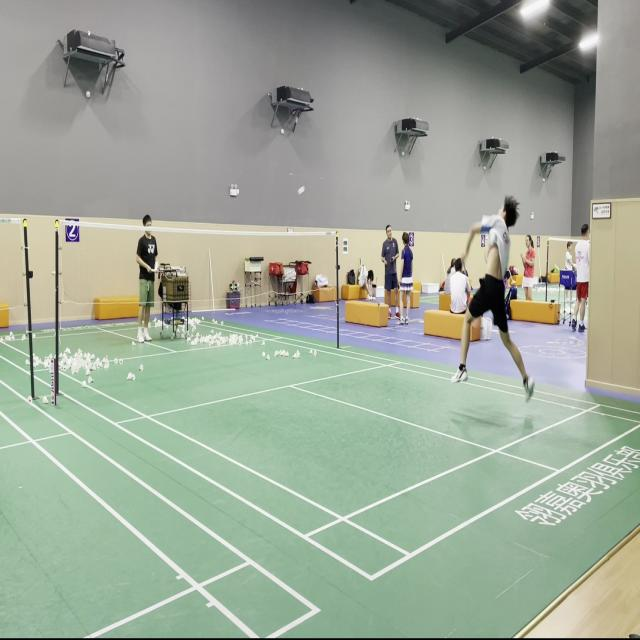shuttlecock: (298, 185, 305, 196)
